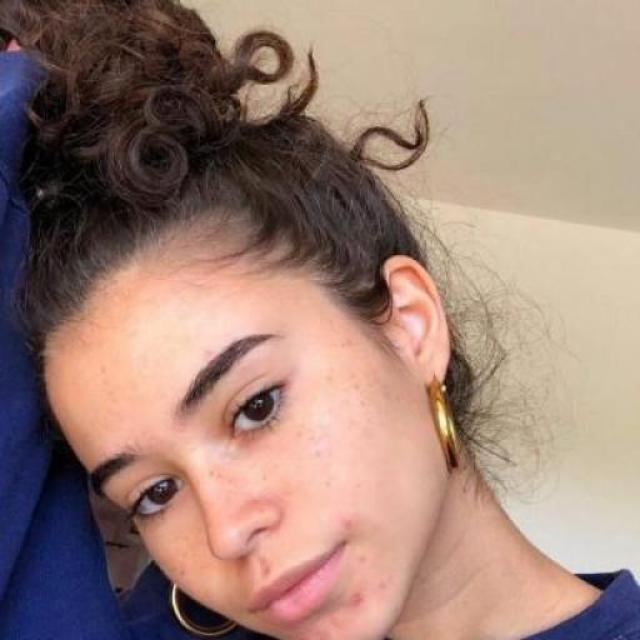Acne: (339, 519, 393, 617)
